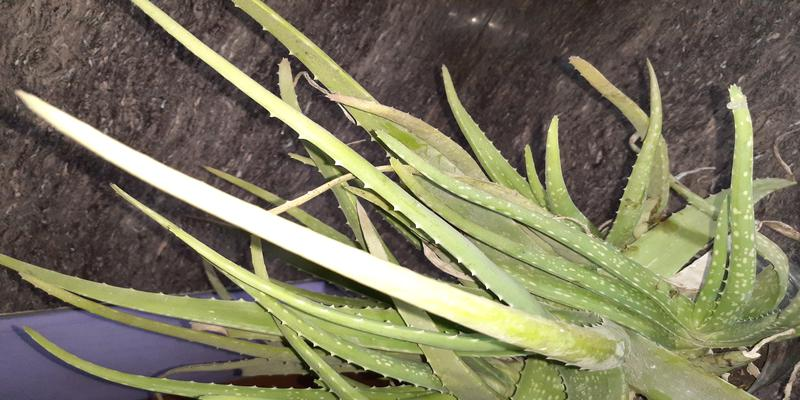Aloevera: (98, 121, 761, 383)
